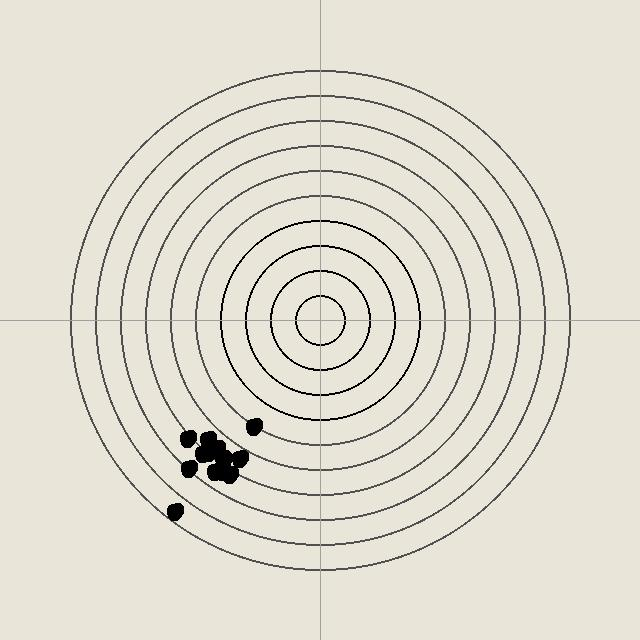good_group: (192, 443, 212, 463), (197, 429, 217, 449), (178, 458, 198, 478), (212, 461, 232, 481), (219, 464, 239, 484), (198, 442, 218, 462), (164, 501, 184, 521), (212, 448, 232, 468), (213, 449, 233, 469), (204, 461, 224, 481), (206, 438, 226, 458), (243, 416, 263, 436), (177, 428, 197, 448), (229, 448, 249, 468)
